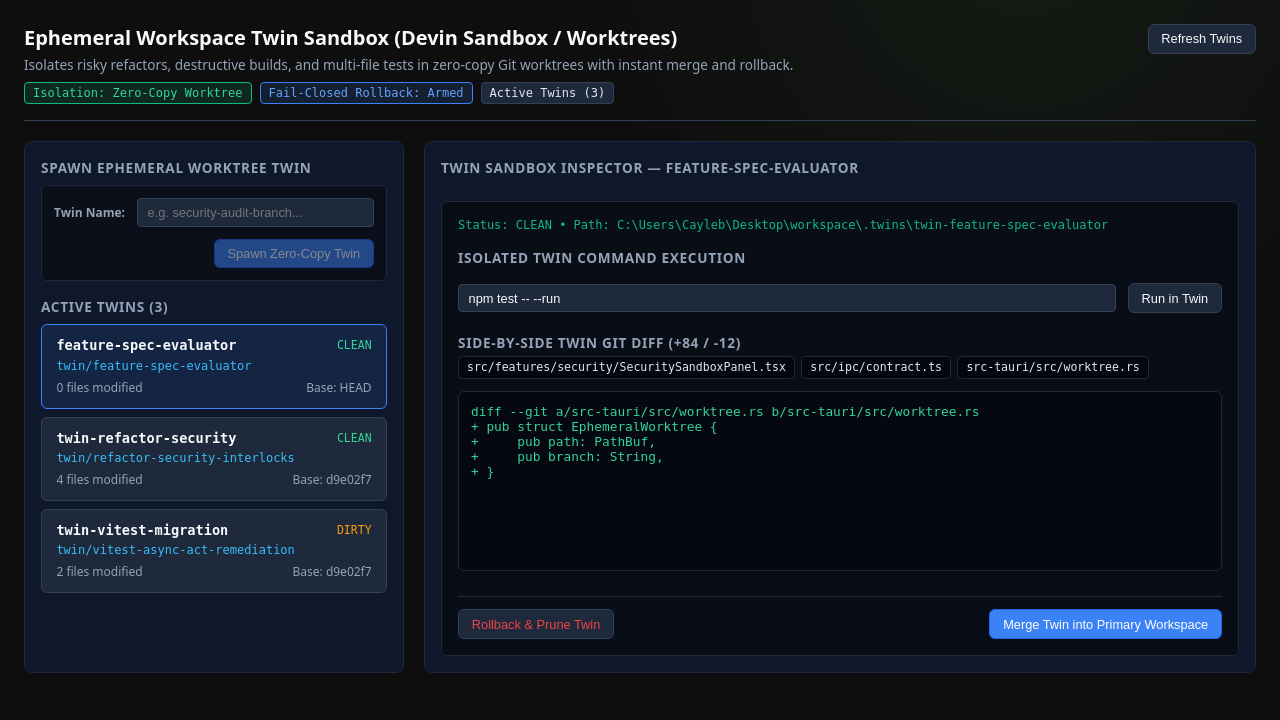
TwinSandboxPanel Component › executes commands inside isolated twin
Expected: the element with test id "twin-card-twin-refactor-security" is shown, x1=41 y1=416 x2=387 y2=501
Click the button with test id "btn-exec-in-twin".
click(1175, 298)  # box x1=1128 y1=283 x2=1222 y2=313
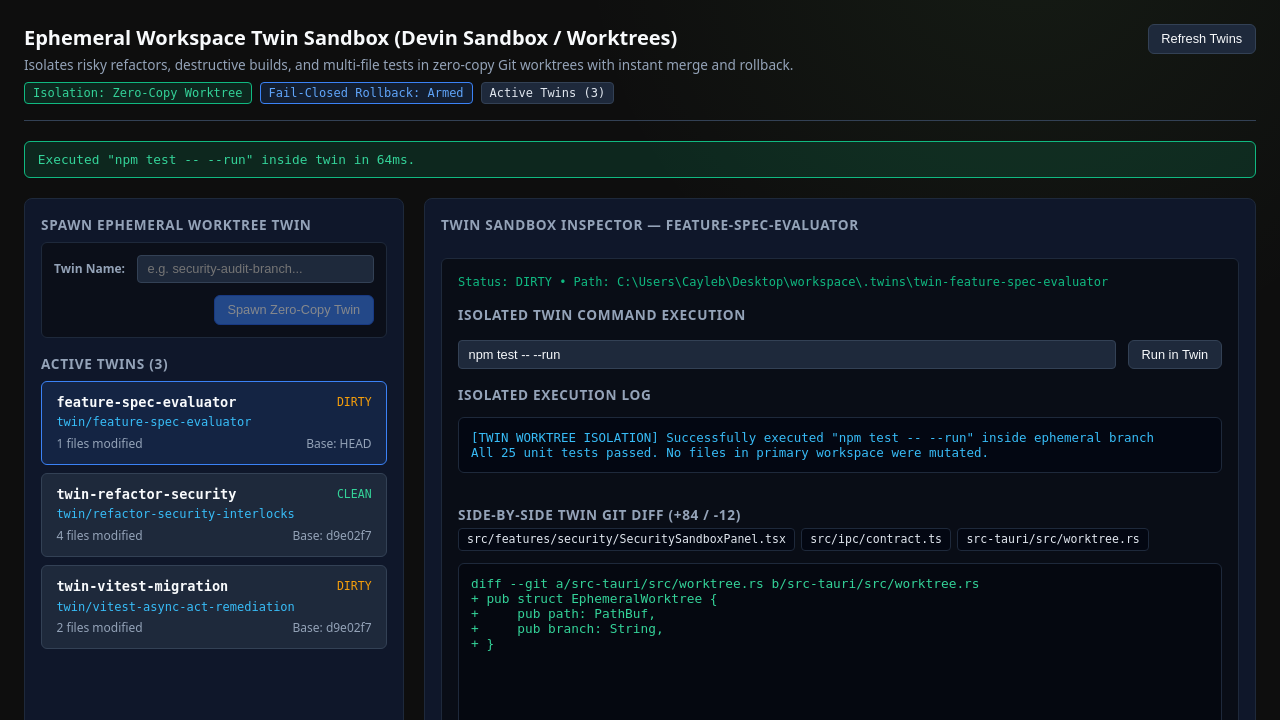
Expected: the text with test id "twin-exec-output" is shown, x1=458 y1=417 x2=1222 y2=473
